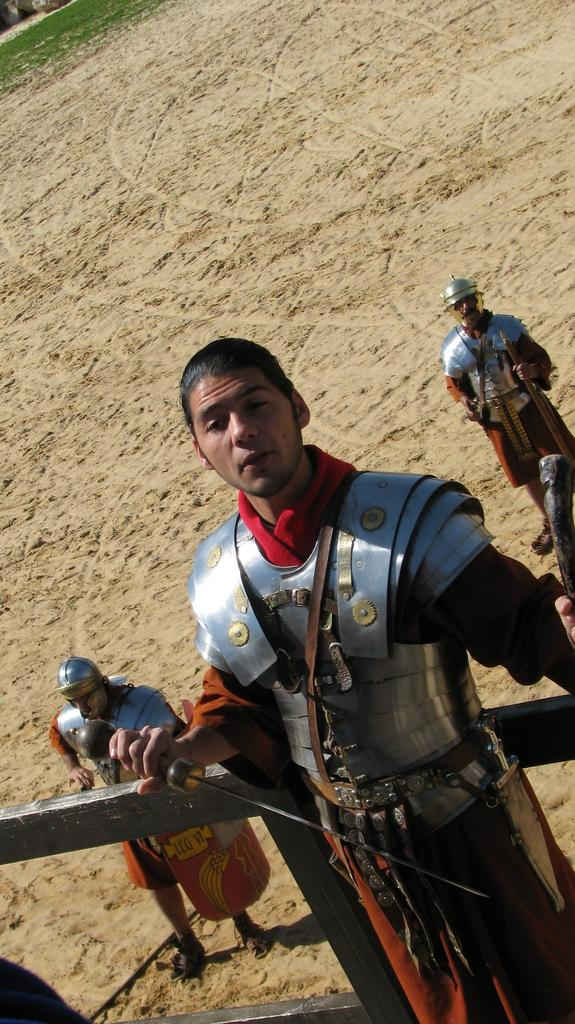non-violence: (126, 328, 518, 1004), (47, 658, 273, 980), (442, 270, 574, 560)
weapon: (72, 713, 498, 903), (498, 330, 574, 464)
